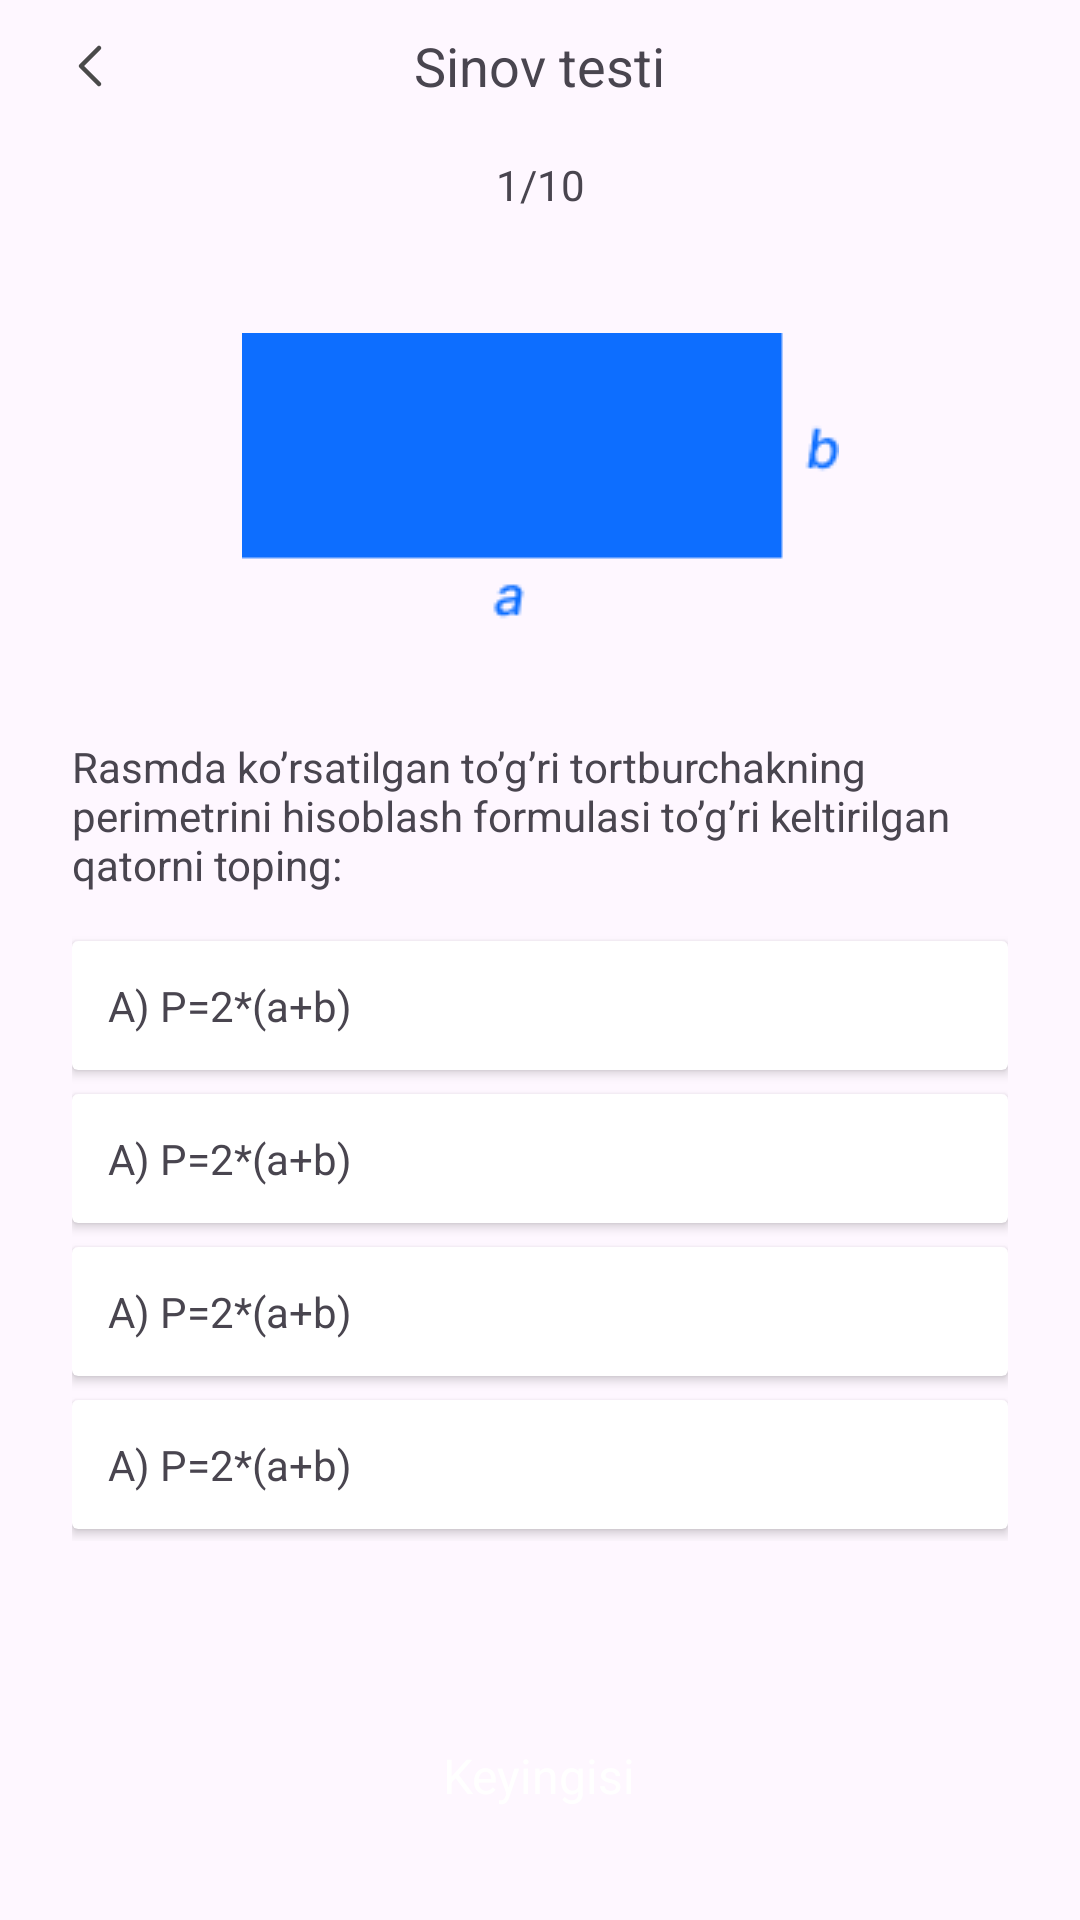

Named icons in this screenshot (1080px×1920px) and their bounding boxes, (x1, y1, x2, y2):
left: (79, 45, 101, 87)
